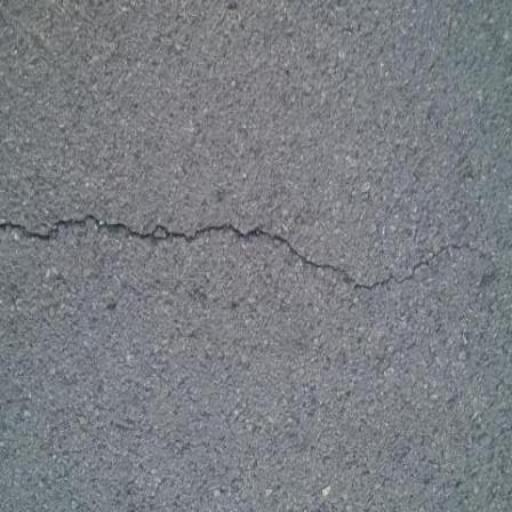spalling: (2, 199, 502, 308)
